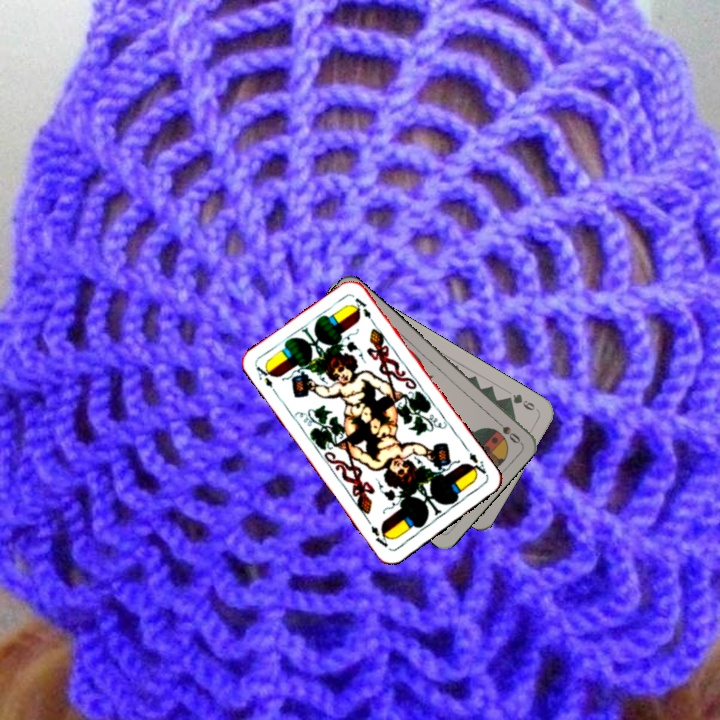EA: (252, 361, 280, 398), (464, 448, 491, 480)
G9: (502, 390, 541, 415)
SO: (490, 414, 523, 446)
